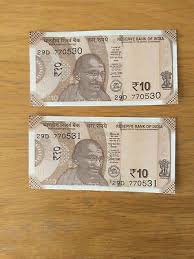ten: (35, 127, 161, 180), (39, 46, 165, 97)
